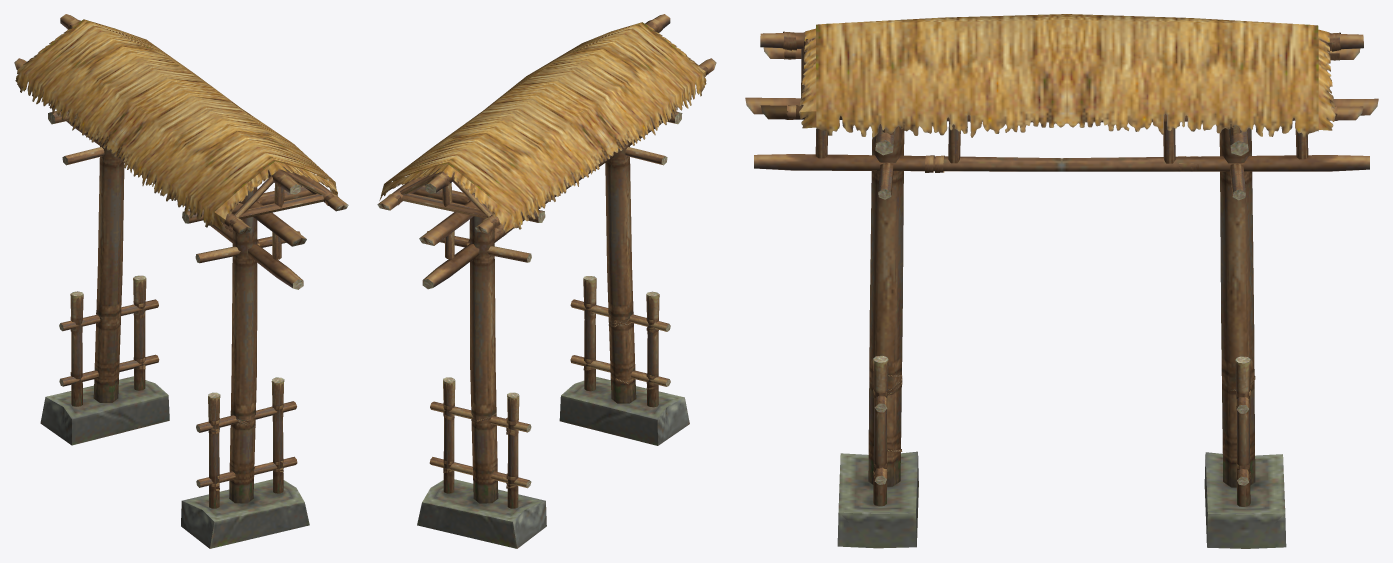
The model's file is 1004_Item_men_2.FBX.
3 views of the same model, side by side, from view 1: azimuth 30°, elevation 25°; view 2: azimuth 150°, elevation 25°; view 3: azimuth 270°, elevation 25° (orthographic). The views are drawn at different scales.
Visible parts, largest first — view 1: 1004_Item_men_2; view 2: 1004_Item_men_2; view 3: 1004_Item_men_2.
Boxes of the visible parts, <box> form: 1004_Item_men_2: <box>14,14,348,548</box>; 1004_Item_men_2: <box>377,14,716,548</box>; 1004_Item_men_2: <box>745,14,1378,548</box>.
Size of the model in its own units: 178 by 512 by 445.
Materials: 2 (2 with a texture image).
